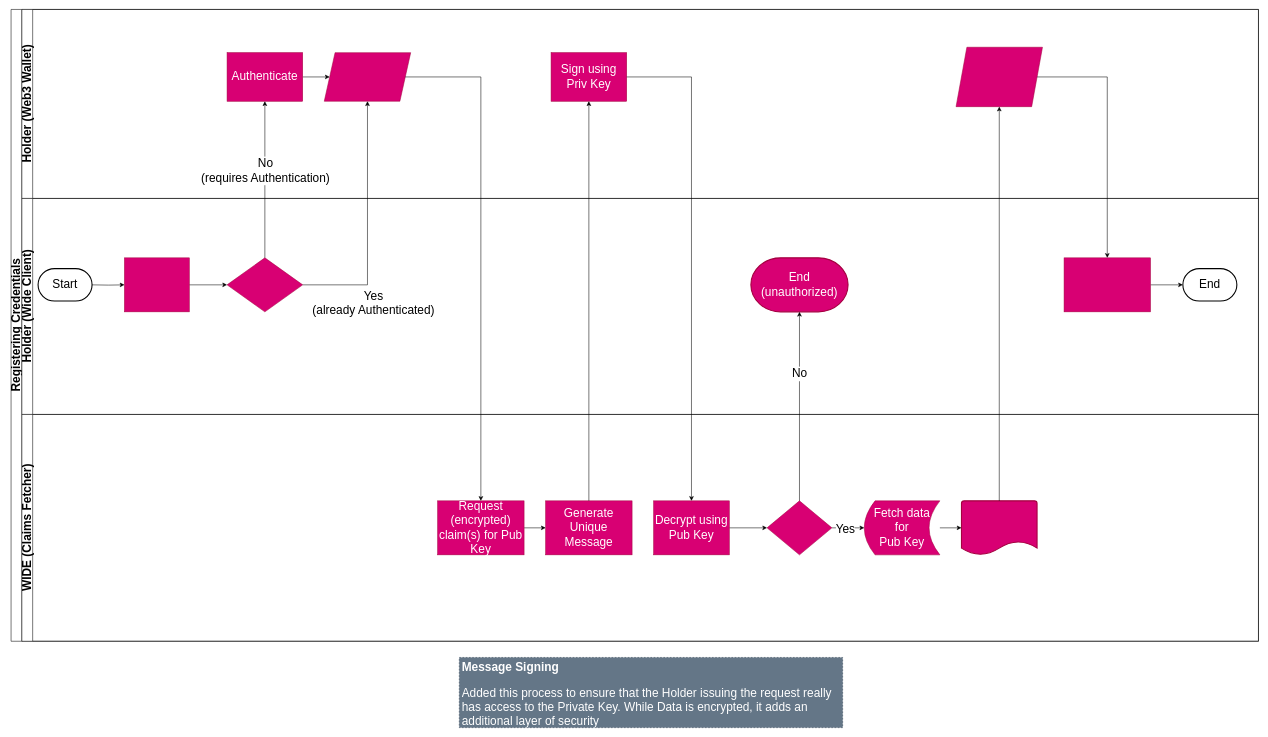
The diagram is 1268 pixels wide and 737 high, and some of its shapes have lost their labels. The centre of each missing label's shape, as x and y in pixels:
"Decrypt Claim(s)" goes at pixel 999 77.
"Encrypted claim(s)" goes at pixel 999 527.
"Get Pub Key" goes at pixel 367 76.
"Messages Match?" goes at pixel 799 527.
"Present on screen" goes at pixel 1107 284.
"Request Claims Listing" goes at pixel 156 284.
"Web3 Auth Check" goes at pixel 265 284.
